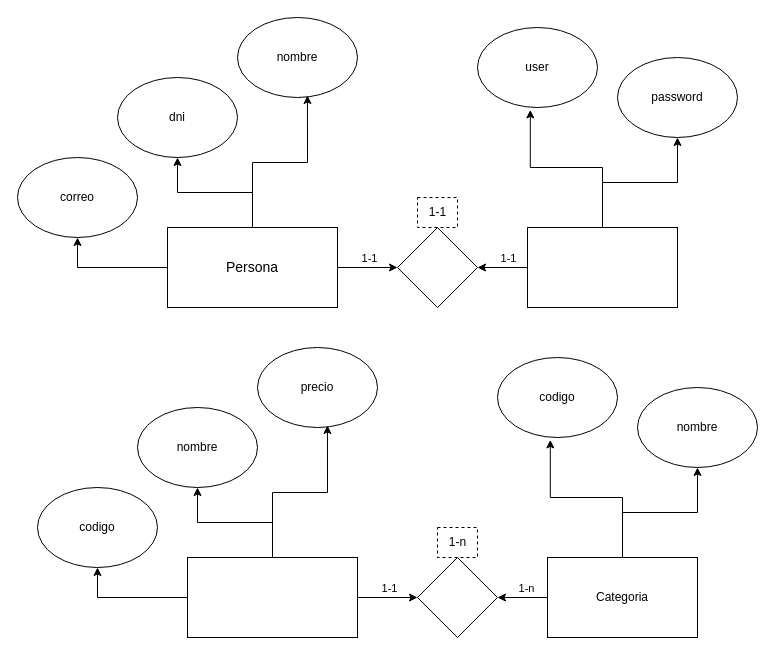
Some shapes in this 775 by 655 pixel diagram are drawn without their labels. Here are the shapes that lost their labels. From the top down, the centre of each, then its label:
At point 437,267: "Permisos".
At point 602,267: "Usuario".
At point 272,597: "Producto".
At point 457,597: "Pertenece".
